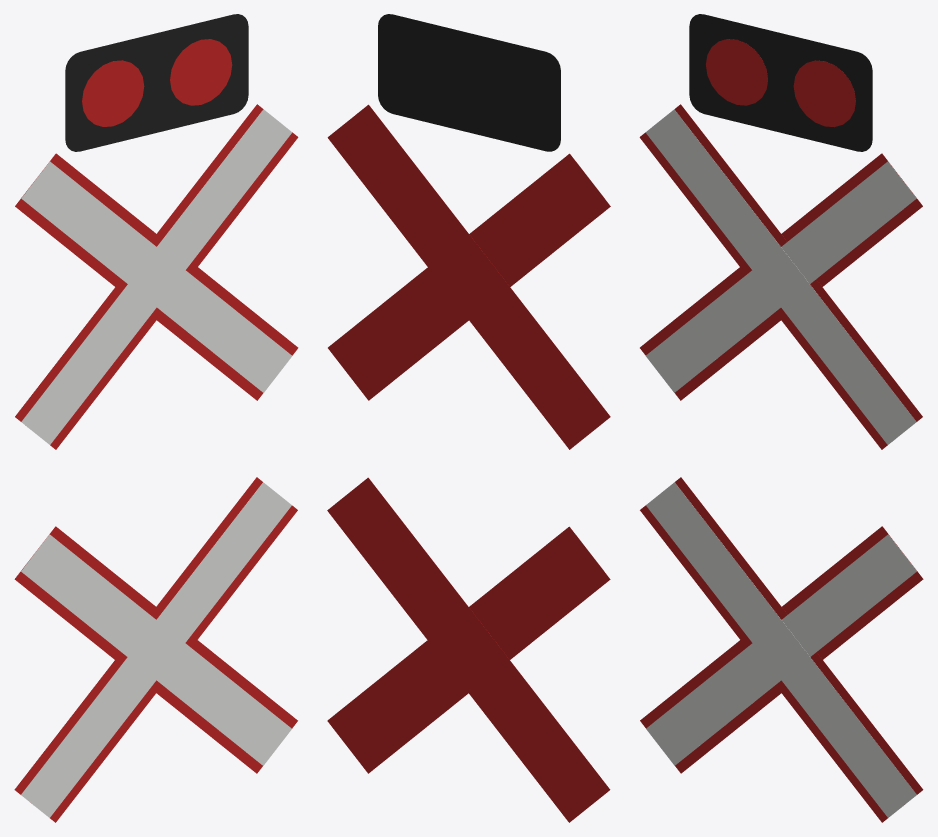
File: G1cbis.glb
3 views of the same model, side by side, from view 1: azimuth 30°, elevation 25°; view 2: azimuth 150°, elevation 25°; view 3: azimuth 330°, elevation 25° (orthographic).
Parts seen in each view (by area): view 1: G1cbis_bras07, G1cbis_bras03, G1cbis_bras06, G1cbis_bras02, G1cbis_boitier08, G1cbis_bras01, G1cbis_bras05, G1cbis_bras04, G1cbis_bras00, G1cbis_feu09, G1cbis_feu10; view 2: G1cbis_bras04, G1cbis_bras00, G1cbis_boitier08, G1cbis_bras01, G1cbis_bras05; view 3: G1cbis_bras03, G1cbis_bras07, G1cbis_bras02, G1cbis_bras06, G1cbis_boitier08, G1cbis_bras01, G1cbis_bras05, G1cbis_bras00, G1cbis_bras04, G1cbis_feu09, G1cbis_feu10.
Boxes of the visible parts, <box> form: G1cbis_bras07: <box>21,161,291,392</box>; G1cbis_bras03: <box>21,534,291,765</box>; G1cbis_bras06: <box>21,109,292,444</box>; G1cbis_bras02: <box>21,482,291,817</box>; G1cbis_boitier08: <box>65,14,248,151</box>; G1cbis_bras01: <box>14,526,297,773</box>; G1cbis_bras05: <box>15,153,298,400</box>; G1cbis_bras04: <box>15,104,298,449</box>; G1cbis_bras00: <box>14,477,297,822</box>; G1cbis_feu09: <box>82,60,144,126</box>; G1cbis_feu10: <box>170,39,232,105</box>; G1cbis_bras04: <box>327,104,610,449</box>; G1cbis_bras00: <box>327,477,610,822</box>; G1cbis_boitier08: <box>378,14,560,151</box>; G1cbis_bras01: <box>327,526,610,773</box>; G1cbis_bras05: <box>328,153,610,400</box>; G1cbis_bras03: <box>646,482,916,817</box>; G1cbis_bras07: <box>645,109,916,444</box>; G1cbis_bras02: <box>646,534,916,765</box>; G1cbis_bras06: <box>646,161,916,392</box>; G1cbis_boitier08: <box>689,14,872,151</box>; G1cbis_bras01: <box>640,477,923,822</box>; G1cbis_bras05: <box>639,104,922,449</box>; G1cbis_bras00: <box>640,526,923,773</box>; G1cbis_bras04: <box>640,153,922,400</box>; G1cbis_feu09: <box>706,39,767,105</box>; G1cbis_feu10: <box>793,60,855,127</box>.
Bounding box in the file's own units: 0.7744 × 2 × 0.0044.
